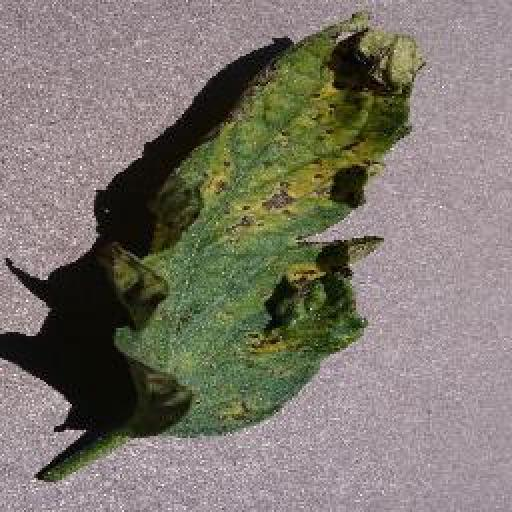disease_tomato: (112, 10, 426, 440)
